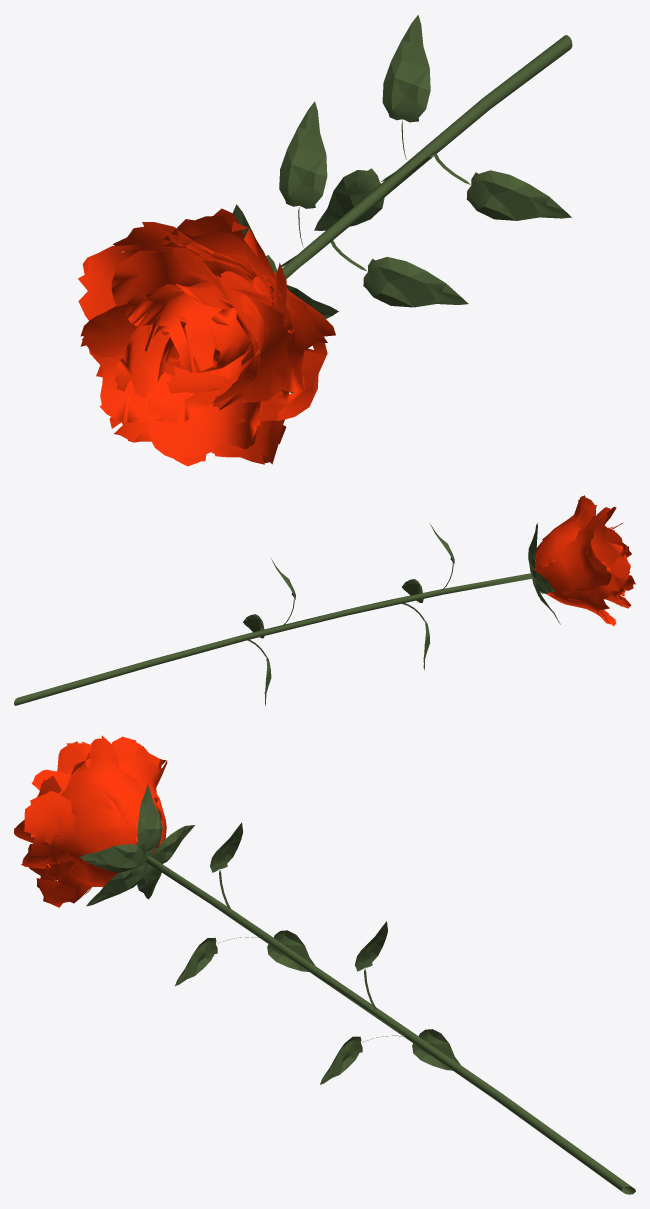
Rendered from rose.obj.
3 renders of one model, top to bottom at view 1: azimuth 30°, elevation 25°; view 2: azimuth 150°, elevation 25°; view 3: azimuth 270°, elevation 25°, orthographic. The views are drawn at different scales.
Parts seen in each view (by area): view 1: Group_001; view 2: Group_001; view 3: Group_001.
Boxes of the visible parts, <box> form: Group_001: <box>78,15,572,466</box>; Group_001: <box>14,495,635,705</box>; Group_001: <box>14,735,635,1194</box>.
Size of the model in its own units: 3.34 by 1.16 by 3.11.
